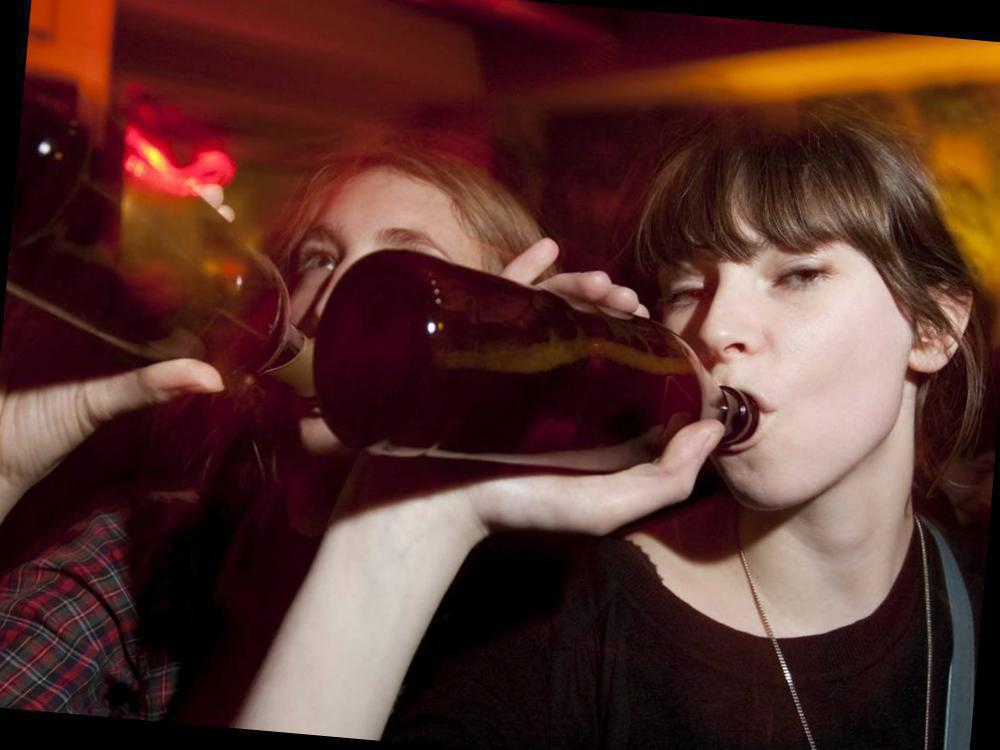Drunk: (671, 200, 891, 512)
